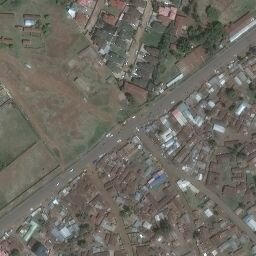tree: (176, 37, 191, 50), (79, 223, 90, 232), (120, 208, 130, 217), (226, 88, 235, 98), (78, 239, 87, 247), (192, 231, 200, 238), (208, 139, 216, 146)
